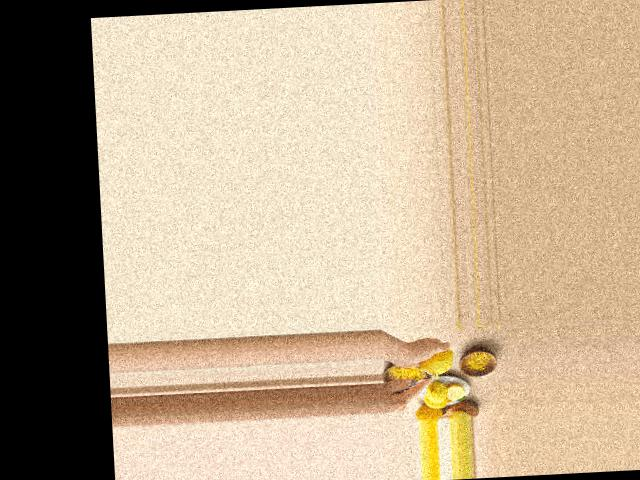lemon: (417, 344, 453, 377)
